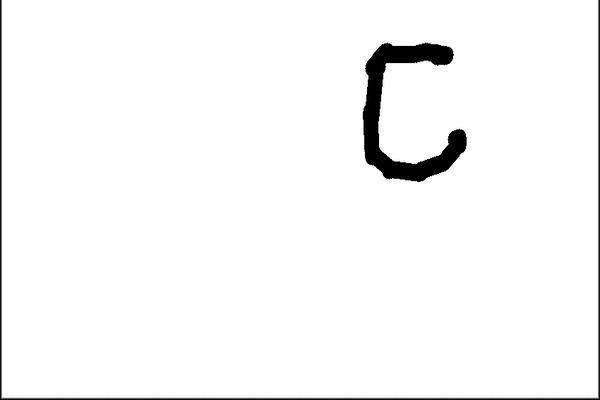C: (357, 31, 471, 186)
